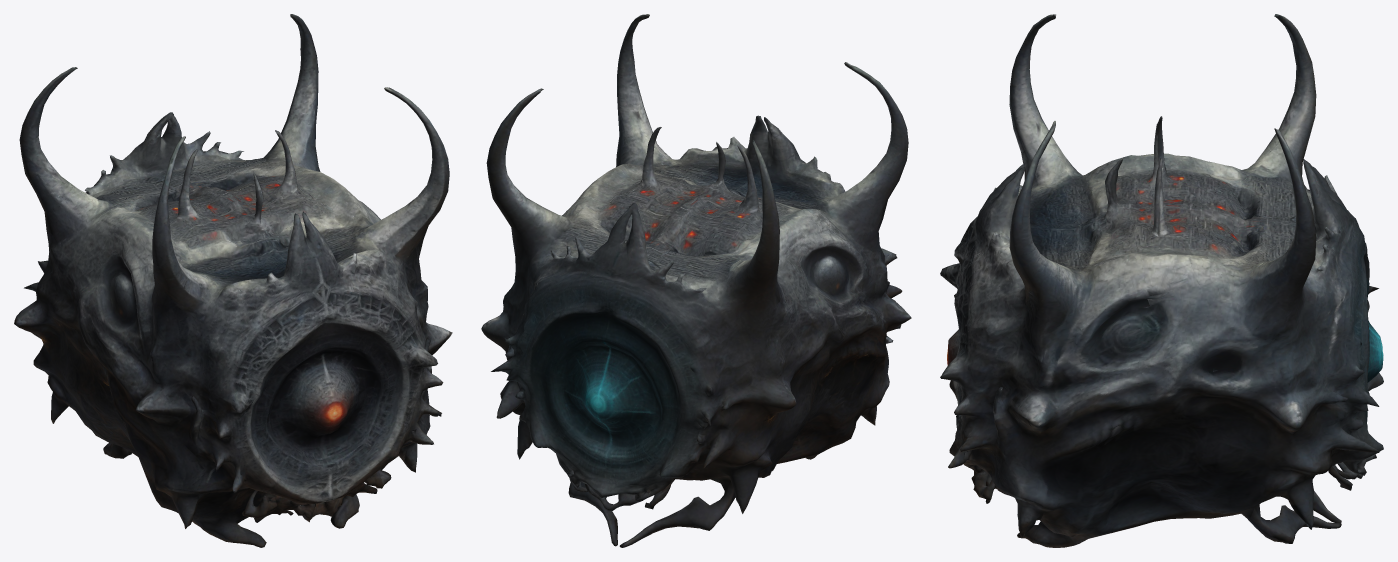
The model's file is hypercomplex_dangerou_0126044444_texture.glb.
The picture shows the model from 3 angles, left to right: view 1: azimuth 30°, elevation 25°; view 2: azimuth 150°, elevation 25°; view 3: azimuth 270°, elevation 25°; orthographic projection. The views are drawn at different scales.
Bounding box in the file's own units: 1.59 × 2.01 × 1.76.
Materials: 1 (1 with a texture image).
